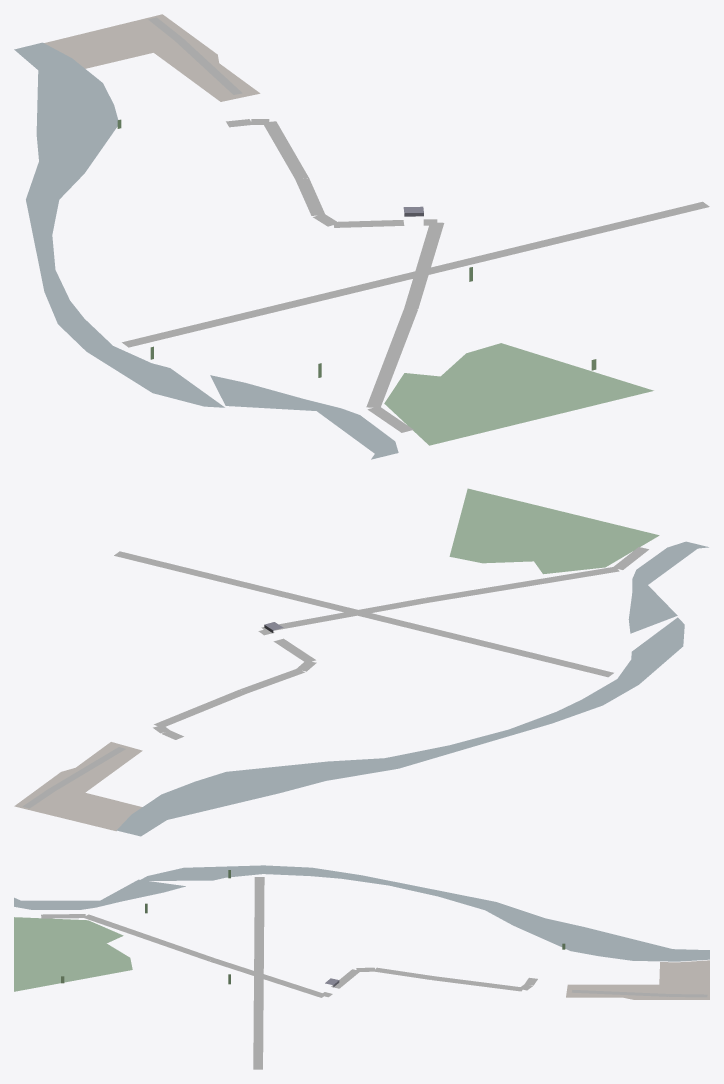
3 renders of one model, top to bottom at view 1: azimuth 30°, elevation 25°; view 2: azimuth 150°, elevation 25°; view 3: azimuth 270°, elevation 25°, orthographic. The views are drawn at different scales.
Size of the model in its own units: 348 by 9 by 500.
